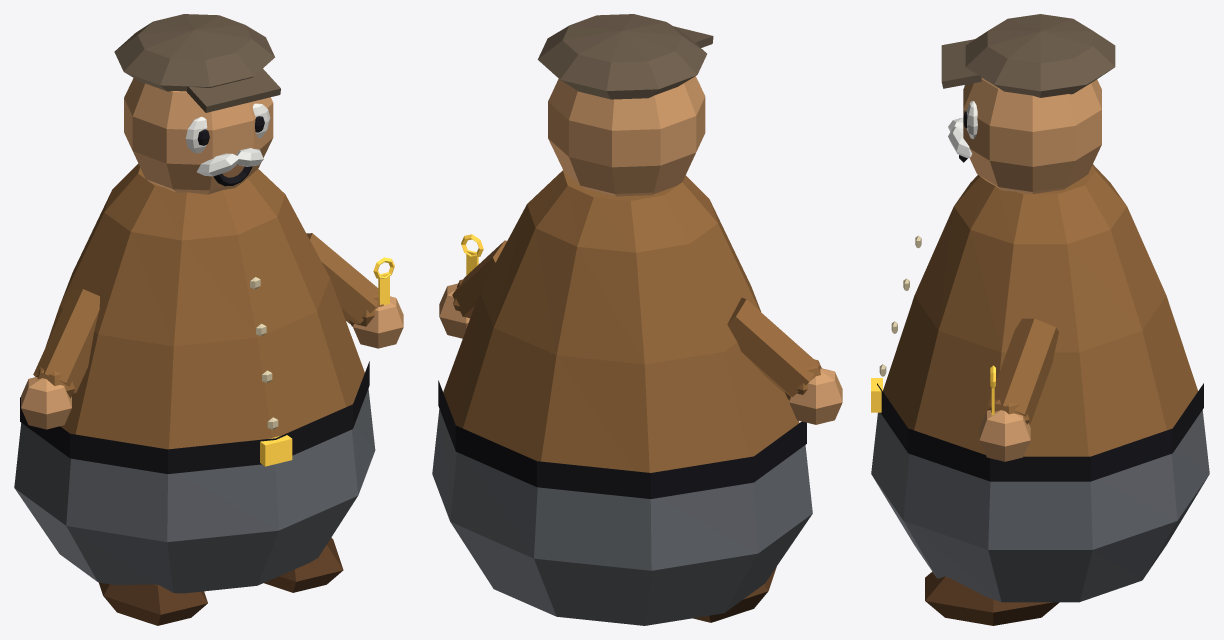
File: npc_cosme.glb
3 views of the same model, side by side, from view 1: azimuth 30°, elevation 25°; view 2: azimuth 150°, elevation 25°; view 3: azimuth 270°, elevation 25° (orthographic). The views are drawn at different scales.
Visible parts, largest first — view 1: body_cardigan_brown, body_grey_pants, cap_flat_cap, head_skin_arena, body_black, arms_cardigan_brown, legs_brown_shoes, arms_skin_arena, face_mustache_white, face_white, body_gold, face_black (+1 smaller); view 2: body_cardigan_brown, body_grey_pants, head_skin_arena, cap_flat_cap, body_black, arms_cardigan_brown, arms_skin_arena, legs_brown_shoes; view 3: body_cardigan_brown, body_grey_pants, head_skin_arena, cap_flat_cap, body_black, arms_cardigan_brown, legs_brown_shoes, arms_skin_arena, face_mustache_white.
Part boxes in pixels (bbox=[...]): body_cardigan_brown: bbox=[45, 163, 364, 449]; body_grey_pants: bbox=[14, 388, 375, 593]; cap_flat_cap: bbox=[114, 14, 280, 112]; head_skin_arena: bbox=[124, 78, 273, 194]; body_black: bbox=[20, 361, 369, 473]; arms_cardigan_brown: bbox=[33, 233, 383, 398]; legs_brown_shoes: bbox=[99, 537, 343, 625]; arms_skin_arena: bbox=[21, 296, 403, 429]; face_mustache_white: bbox=[197, 148, 263, 176]; face_white: bbox=[185, 103, 270, 153]; body_gold: bbox=[260, 435, 292, 466]; face_black: bbox=[197, 116, 264, 186]; body_cardigan_brown: bbox=[443, 170, 799, 472]; body_grey_pants: bbox=[432, 409, 812, 625]; head_skin_arena: bbox=[548, 76, 705, 196]; cap_flat_cap: bbox=[537, 14, 713, 99]; body_black: bbox=[438, 380, 806, 498]; arms_cardigan_brown: bbox=[452, 240, 821, 399]; arms_skin_arena: bbox=[439, 283, 842, 424]; legs_brown_shoes: bbox=[693, 566, 776, 622]; body_cardigan_brown: bbox=[883, 164, 1197, 456]; body_grey_pants: bbox=[871, 410, 1209, 602]; head_skin_arena: bbox=[963, 78, 1101, 193]; cap_flat_cap: bbox=[941, 14, 1115, 97]; body_black: bbox=[877, 383, 1203, 481]; arms_cardigan_brown: bbox=[987, 318, 1058, 424]; legs_brown_shoes: bbox=[925, 571, 1059, 625]; arms_skin_arena: bbox=[979, 410, 1030, 461]; face_mustache_white: bbox=[948, 117, 972, 158].
Size of the model in its own units: 1.13 by 1.55 by 0.86.
